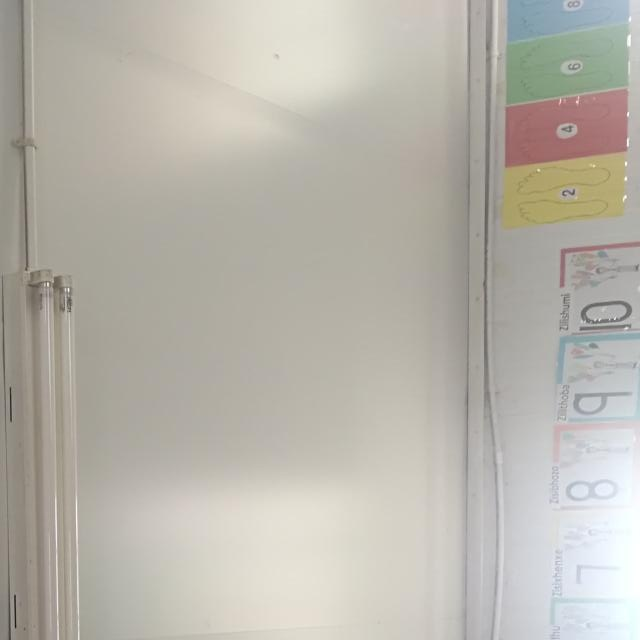fluorescent tube: (0, 257, 106, 640)
